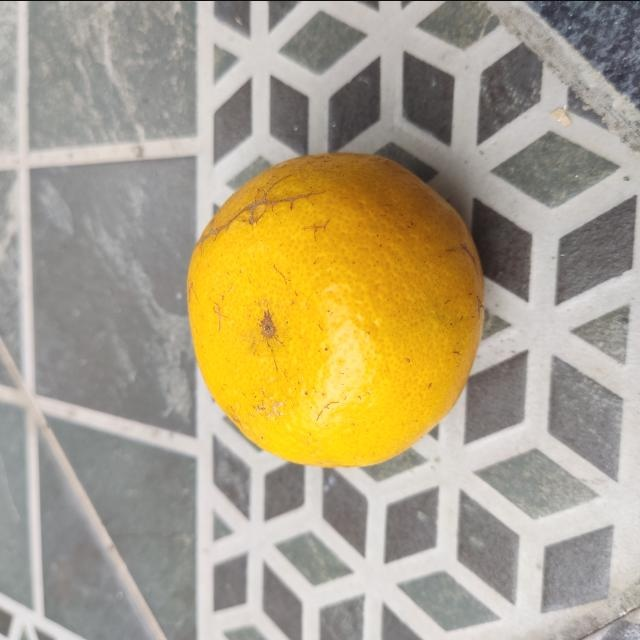agrume: (181, 147, 491, 471)
